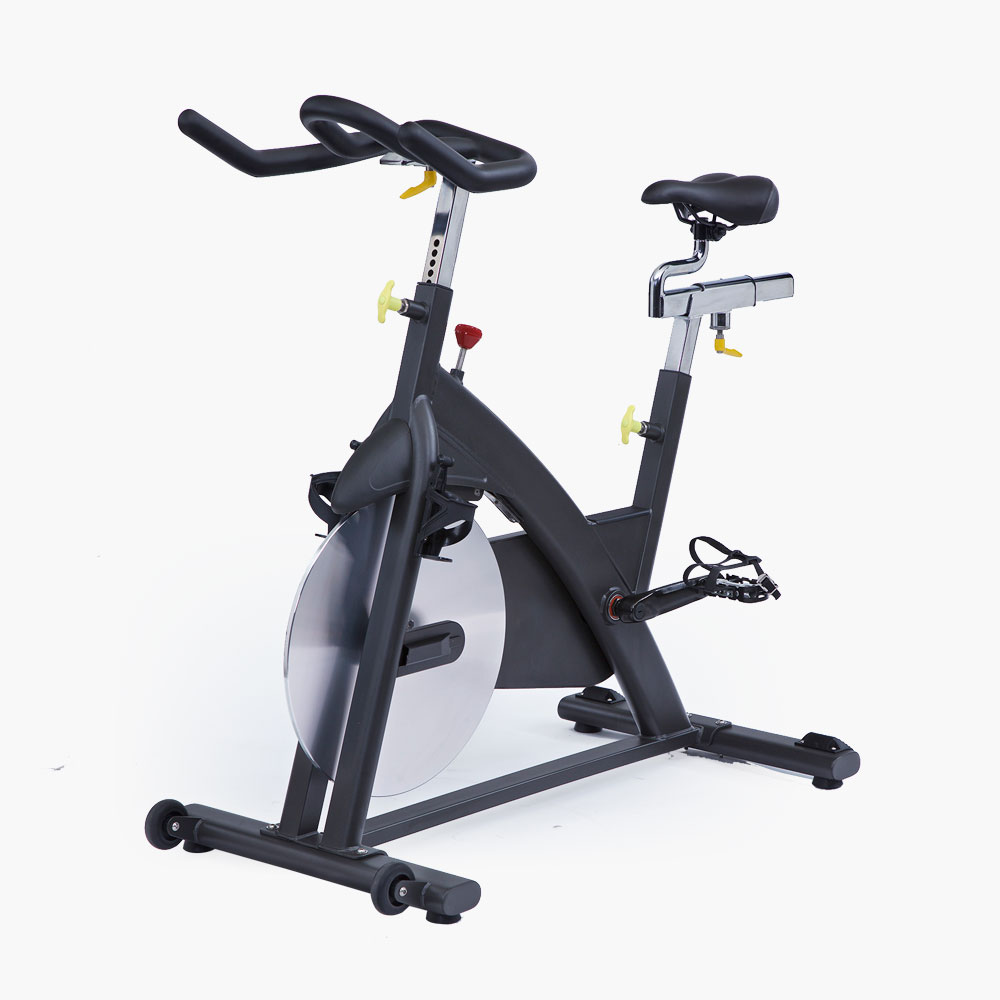gym_bike: (95, 78, 885, 936)
